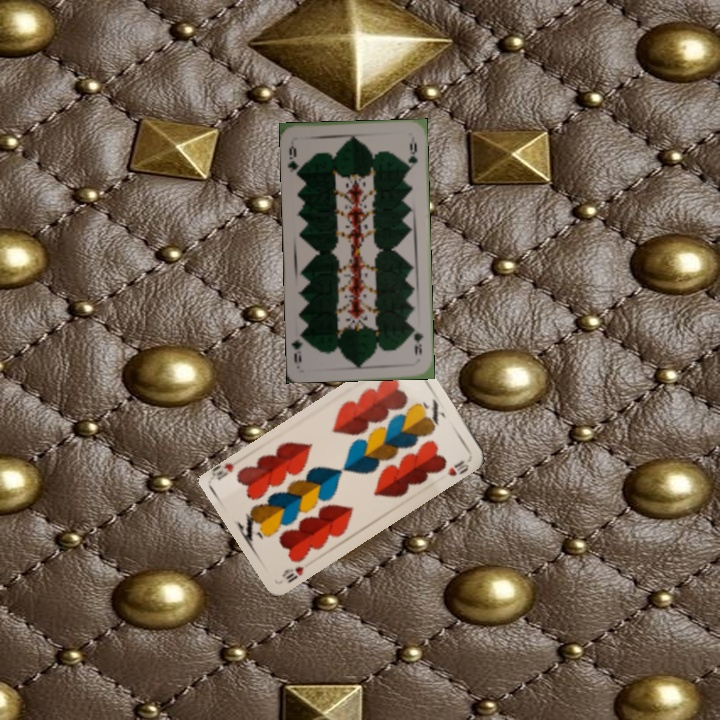G9: (284, 141, 303, 178), (409, 323, 426, 358)
H10: (278, 562, 307, 585)
